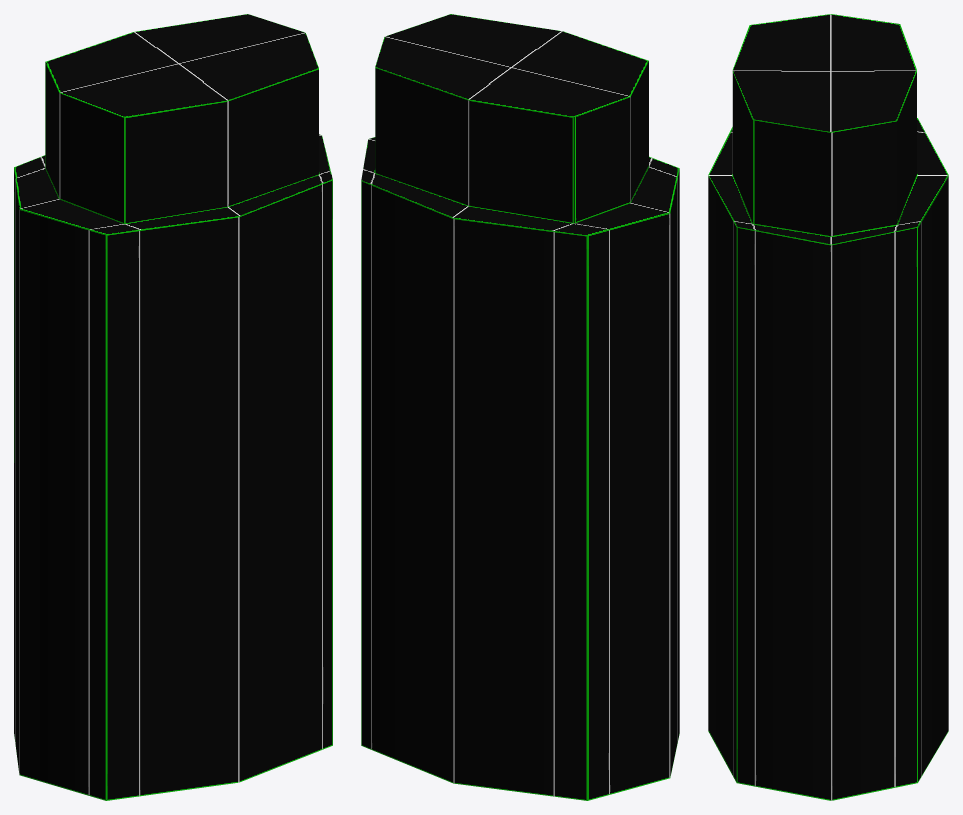
File: Circular_Tower.FBX
3 renders of one model, left to right at view 1: azimuth 30°, elevation 25°; view 2: azimuth 150°, elevation 25°; view 3: azimuth 270°, elevation 25°, orthographic.
Parts seen in each view (by area): view 1: Circular_Tower; view 2: Circular_Tower; view 3: Circular_Tower.
Boxes of the visible parts, x1,y1,x2,y2 form: Circular_Tower: (14, 14, 332, 800); Circular_Tower: (361, 14, 679, 800); Circular_Tower: (708, 14, 948, 800).
Size of what is drawn, in the model's own units: 0.7464 by 1.59 by 0.5224.
1 material, 1 textured.
